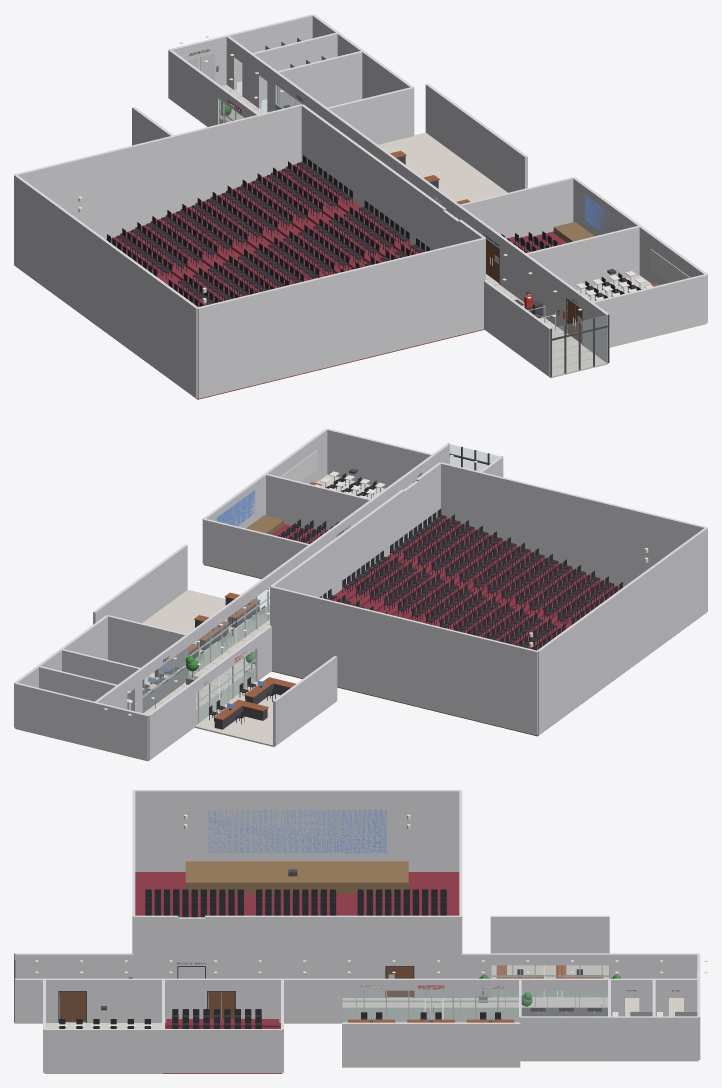
The model's file is planta-baja-torre-b.fbx.
3 renders of one model, top to bottom at view 1: azimuth 30°, elevation 25°; view 2: azimuth 150°, elevation 25°; view 3: azimuth 270°, elevation 25°, orthographic. The views are drawn at different scales.
Visible parts, largest first — view 1: Muro_SalaConf, Muro_SalaConf.001, Muro_SalaConf.002, MuroIzqSala.002, Muro_Aula, Muro_Plataformas, Muro_AuditorioMenor, Muro_Aula.001, Piso_Plataformas, MuroIzq, Muro_Banos, MuroDer.002 (+34 smaller); view 2: Muro_SalaConf.001, Muro_SalaConf, Muro_SalaConf.002, MuroIzqSala.002, Muro_AuditorioMenor, Muro_Banos.001, Muro_Aula, Muro_Aula.001, Muro_Plataformas, Muro_Bienestar, Muro_Cajas, MuroFondo (+36 smaller); view 3: Muro_SalaConf.002, MuroIzqSala.002, Muro_Plataformas, Escenario, Pantalla, Muro_AuditorioMenor.001, Muro_Aula.002, MuroDer.002, Muro_Bienestar, MuroDer.004, Muro_Cajas.002, Muro_Banos.002 (+27 smaller).
Boxes of the visible parts, x1=… form: Muro_SalaConf: x1=197, y1=237, x2=485, y2=398; Muro_SalaConf.001: x1=14, y1=104, x2=302, y2=239; Muro_SalaConf.002: x1=14, y1=175, x2=198, y2=398; MuroIzqSala.002: x1=342, y1=135, x2=446, y2=252; Muro_Aula: x1=591, y1=274, x2=707, y2=346; Muro_Plataformas: x1=425, y1=83, x2=527, y2=192; Muro_AuditorioMenor: x1=459, y1=177, x2=574, y2=238; Muro_Aula.001: x1=526, y1=226, x2=640, y2=290; Piso_Plataformas: x1=378, y1=132, x2=507, y2=201; MuroIzq: x1=484, y1=280, x2=552, y2=376; Muro_Banos: x1=276, y1=50, x2=363, y2=107; MuroDer.002: x1=499, y1=235, x2=569, y2=333; Muro_SalaConf.001: x1=270, y1=586, x2=537, y2=735; Muro_SalaConf: x1=440, y1=462, x2=707, y2=587; Muro_SalaConf.002: x1=537, y1=527, x2=707, y2=735; MuroIzqSala.002: x1=309, y1=489, x2=404, y2=598; Muro_AuditorioMenor: x1=203, y1=518, x2=309, y2=578; Muro_Banos.001: x1=14, y1=683, x2=95, y2=747; Muro_Aula: x1=326, y1=428, x2=432, y2=488; Muro_Aula.001: x1=266, y1=473, x2=370, y2=530; Muro_Plataformas: x1=93, y1=544, x2=187, y2=624; Muro_Bienestar: x1=273, y1=656, x2=337, y2=745; Muro_Cajas: x1=108, y1=615, x2=186, y2=675; MuroFondo: x1=94, y1=702, x2=148, y2=760; Muro_SalaConf.002: x1=133, y1=790, x2=460, y2=871; MuroIzqSala.002: x1=205, y1=915, x2=386, y2=997; Muro_Plataformas: x1=342, y1=1022, x2=520, y2=1066; Escenario: x1=185, y1=861, x2=408, y2=893; Pantalla: x1=208, y1=810, x2=386, y2=853; Muro_AuditorioMenor.001: x1=163, y1=1029, x2=282, y2=1073; Muro_Aula.002: x1=44, y1=1029, x2=163, y2=1073; MuroDer.002: x1=86, y1=978, x2=207, y2=1022; Muro_Bienestar: x1=490, y1=915, x2=609, y2=953; MuroDer.004: x1=234, y1=978, x2=341, y2=1022; Muro_Cajas.002: x1=520, y1=1016, x2=609, y2=1060; Muro_Banos.002: x1=609, y1=1016, x2=698, y2=1060.
Size of the model in its own units: 3220 by 610 by 4667.
